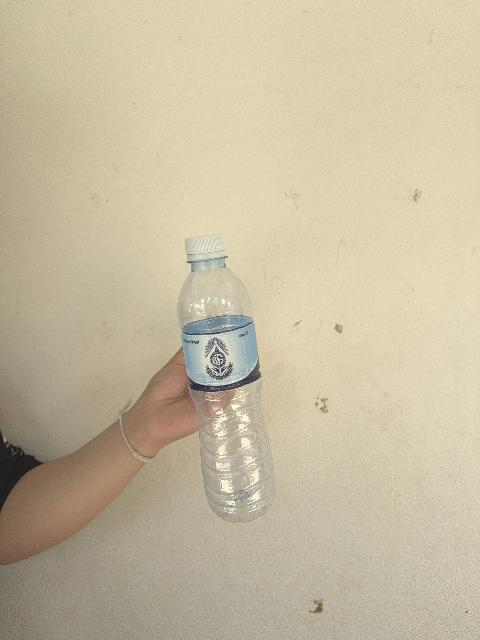bottle: (177, 235, 274, 521)
